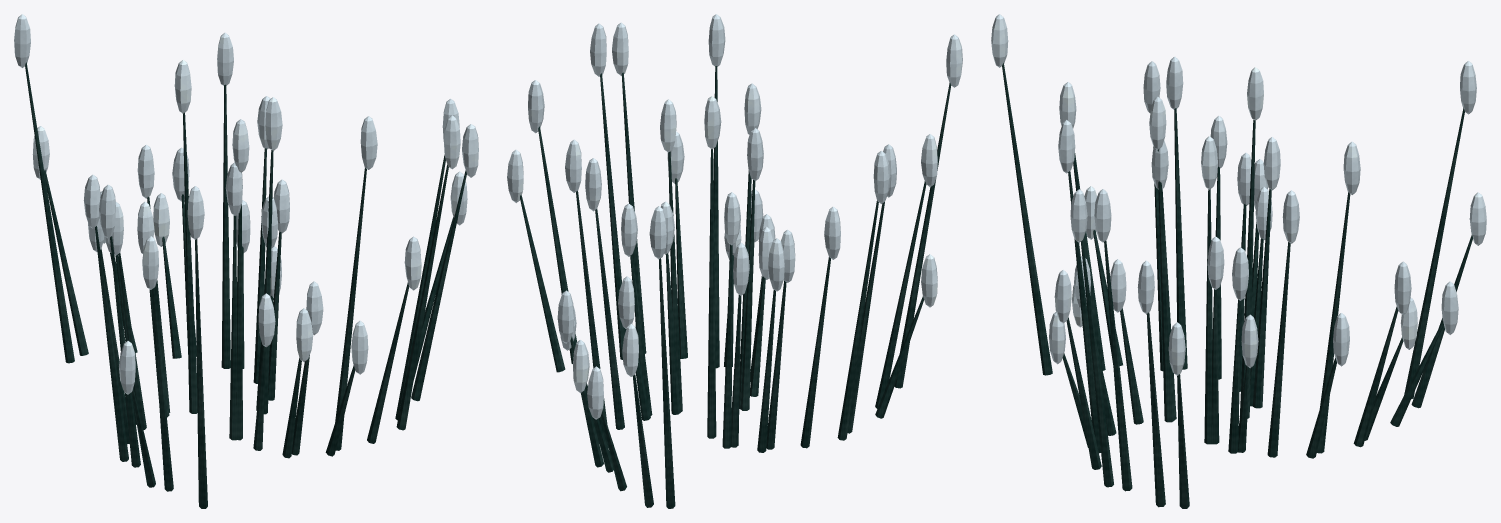
File: FirstRoom_FrozenGrass.fbx
3 views of the same model, side by side, from view 1: azimuth 30°, elevation 25°; view 2: azimuth 150°, elevation 25°; view 3: azimuth 270°, elevation 25° (orthographic).
Parts seen in each view (by area): view 1: WO_FirstRoom_FrozenGrass_LOD0; view 2: WO_FirstRoom_FrozenGrass_LOD0; view 3: WO_FirstRoom_FrozenGrass_LOD0.
Part boxes in pixels (bbox=[...]): WO_FirstRoom_FrozenGrass_LOD0: bbox=[14, 14, 478, 508]; WO_FirstRoom_FrozenGrass_LOD0: bbox=[507, 14, 962, 508]; WO_FirstRoom_FrozenGrass_LOD0: bbox=[991, 14, 1486, 508].
Size of what is drawn, in the model's own units: 5.42 by 4.67 by 6.
